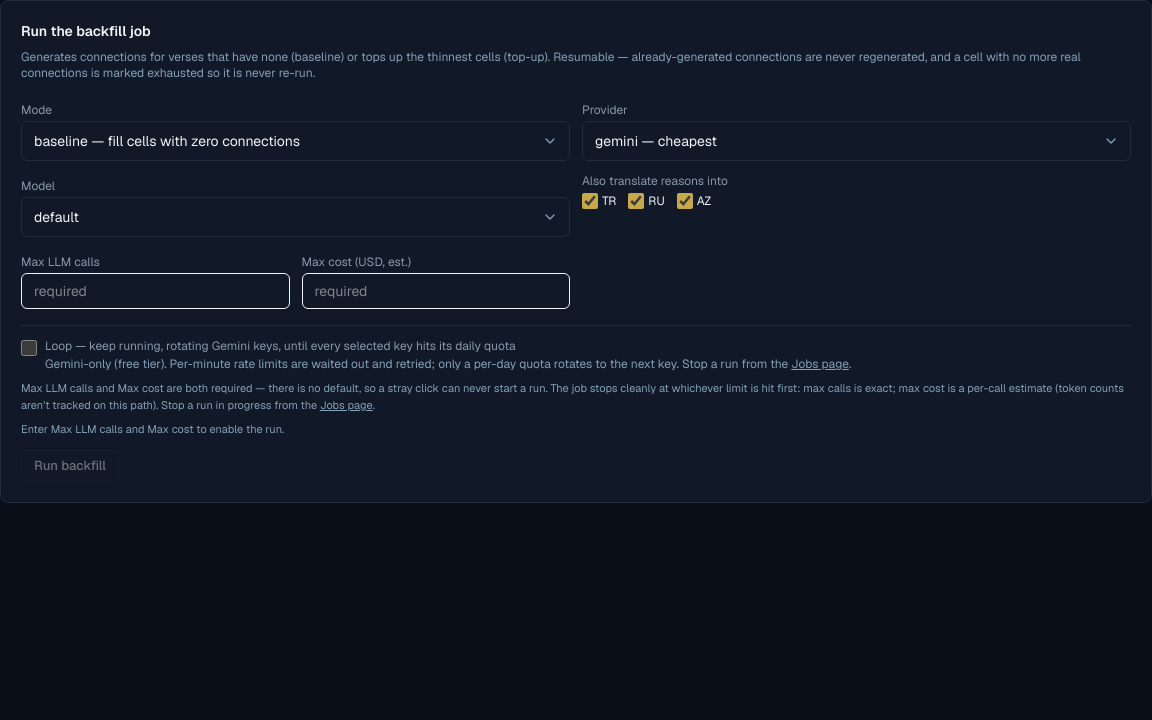
Scenario: BackfillRunner › loop mode › reveals key checkboxes + delay and makes budgets optional
Step 1. Click the checkbox labelled "Loop —" → (29, 348), box [21,340,37,356]
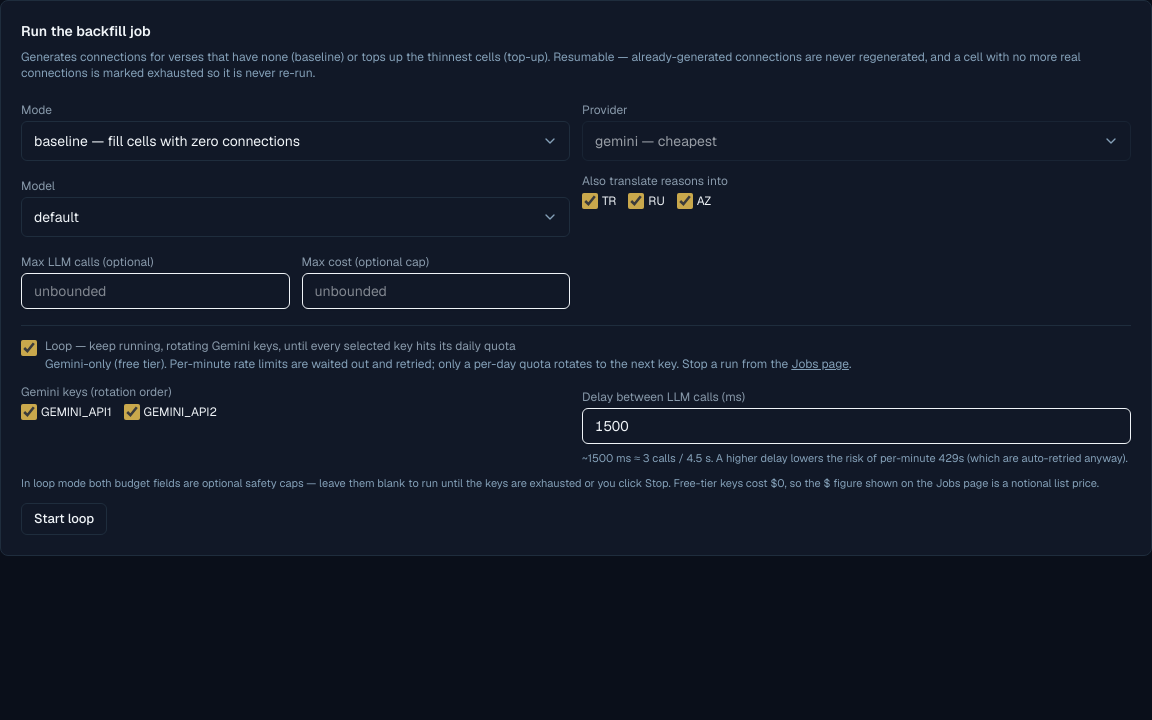
Expected: the checkbox labelled "GEMINI_API1" is checked, [21,404,37,420]
Expected: the checkbox labelled "GEMINI_API2" is checked, [124,404,140,420]
Expected: the text "Delay between LLM calls (ms)" is shown, [582,389,745,405]
